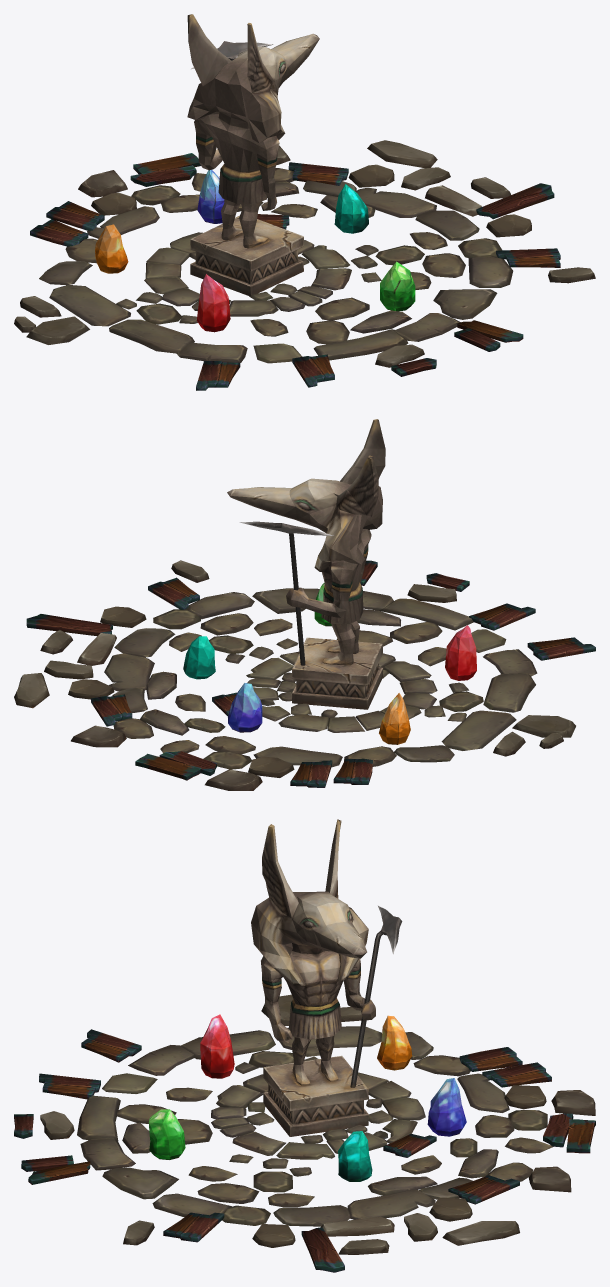
The model's file is JiTan01.FBX.
3 renders of one model, top to bottom at view 1: azimuth 30°, elevation 25°; view 2: azimuth 150°, elevation 25°; view 3: azimuth 270°, elevation 25°, orthographic. The views are drawn at different scales.
Visible parts, largest first — view 1: JiTan01, Object001, Object002; view 2: JiTan01, Object001, Object002; view 3: JiTan01, Object001, Object002.
Part boxes in pixels (bbox=[...]): JiTan01: bbox=[14, 140, 595, 390]; Object001: bbox=[187, 14, 319, 295]; Object002: bbox=[95, 169, 415, 332]; JiTan01: bbox=[14, 560, 595, 790]; Object001: bbox=[227, 419, 385, 709]; Object002: bbox=[183, 583, 476, 744]; JiTan01: bbox=[14, 994, 595, 1272]; Object001: bbox=[251, 819, 402, 1136]; Object002: bbox=[148, 1014, 466, 1181].
Bounding box in the file's own units: 451886 × 214080 × 403320.
